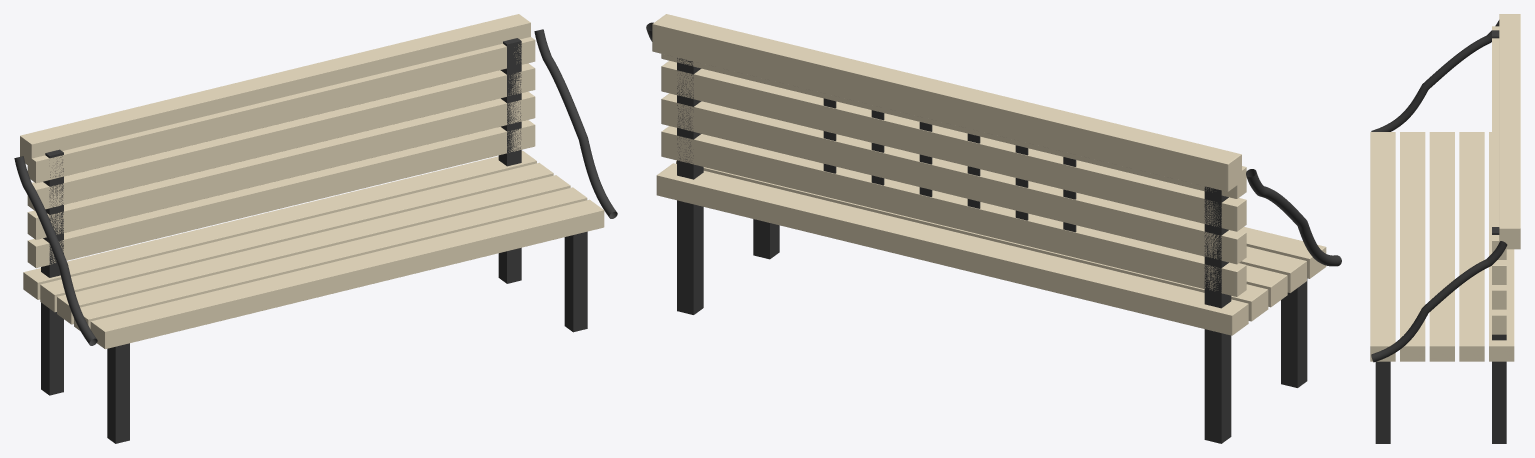
The picture shows the model from 3 angles, left to right: view 1: azimuth 30°, elevation 25°; view 2: azimuth 150°, elevation 25°; view 3: azimuth 270°, elevation 25°; orthographic projection. The views are drawn at different scales.
Parts seen in each view (by area): view 1: Cube, Cube.007, Cube.006, Cube.008, Cube.005, Cube.009, Cube.003, Cube.002, Cube.001, Cube.004, Cube.012, Cube.013 (+4 smaller); view 2: Cube.005, Cube.004, Cube.007, Cube.008, Cube.006, Cube.012, Cube.013, Cube.009, Cube.003, Cube.010, BézierCurve, Cube (+3 smaller); view 3: Cube, Cube.003, Cube.002, Cube.001, Cube.005, Cube.004, Cube.009, BézierCurve.001, Cube.013, BézierCurve, Cube.011, Cube.006 (+2 smaller).
Boxes of the visible parts, x1,y1,x2,y2 form: Cube: [90, 199, 604, 349]; Cube.007: [27, 91, 535, 239]; Cube.006: [27, 120, 535, 268]; Cube.008: [27, 63, 535, 210]; Cube.005: [20, 14, 530, 167]; Cube.009: [27, 37, 535, 183]; Cube.003: [40, 162, 553, 312]; Cube.002: [57, 175, 570, 324]; Cube.001: [74, 187, 587, 330]; Cube.004: [23, 150, 536, 299]; Cube.012: [41, 149, 63, 395]; Cube.013: [498, 38, 521, 283]; Cube.005: [652, 14, 1241, 191]; Cube.004: [656, 163, 1248, 335]; Cube.007: [661, 93, 1246, 264]; Cube.008: [661, 60, 1246, 231]; Cube.006: [661, 126, 1246, 296]; Cube.012: [1204, 186, 1231, 443]; Cube.013: [677, 58, 703, 314]; Cube.009: [661, 54, 1246, 198]; Cube.003: [676, 161, 1268, 321]; Cube.010: [1281, 278, 1307, 387]; BézierCurve: [1246, 169, 1341, 266]; Cube: [1239, 227, 1326, 278]; Cube: [1370, 132, 1395, 361]; Cube.003: [1459, 132, 1484, 361]; Cube.002: [1429, 132, 1454, 361]; Cube.001: [1400, 132, 1425, 361]; Cube.005: [1499, 14, 1520, 249]; Cube.004: [1489, 132, 1514, 361]; Cube.009: [1492, 26, 1506, 259]; BézierCurve.001: [1371, 241, 1507, 362]; Cube.013: [1492, 227, 1506, 443]; BézierCurve: [1371, 20, 1499, 131]; Cube.011: [1375, 361, 1390, 443]; Cube.006: [1492, 309, 1506, 334].
Bounding box in the file's own units: 2.54 × 1.16 × 0.71.
